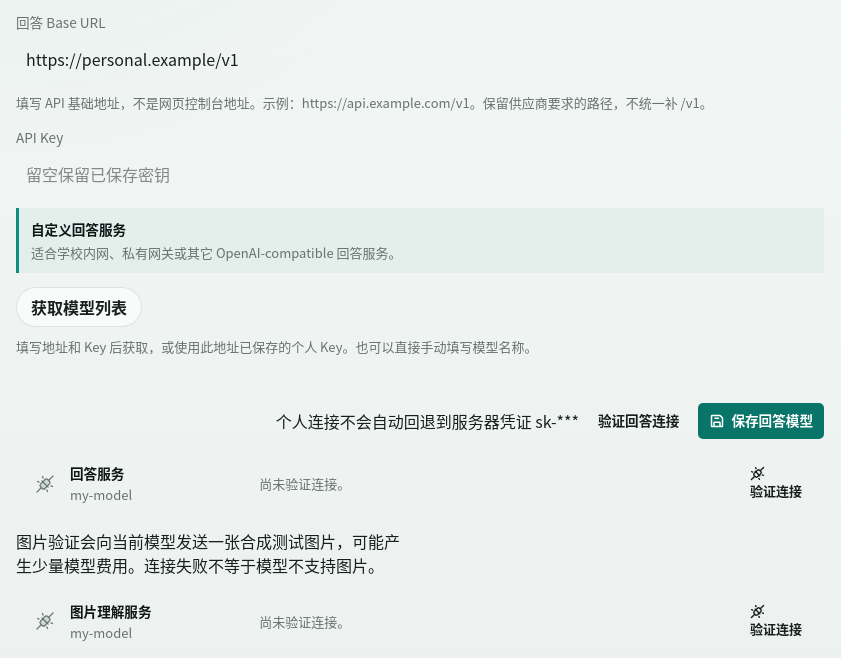
Scenario: personal main model capabilities › offers an explicit synthetic-image probe without assuming image support
The image size is (841, 658).
(page scrolled)
Check: the text "图片验证会向当前模型发送一张合成测试图片，可能产生少量模型费用。连接失败不等于模型不支持图片。" is shown, box [16, 528, 413, 576]
Click the button with aria-label "验证图片理解服务连接" at [776, 621], box [742, 604, 810, 639]
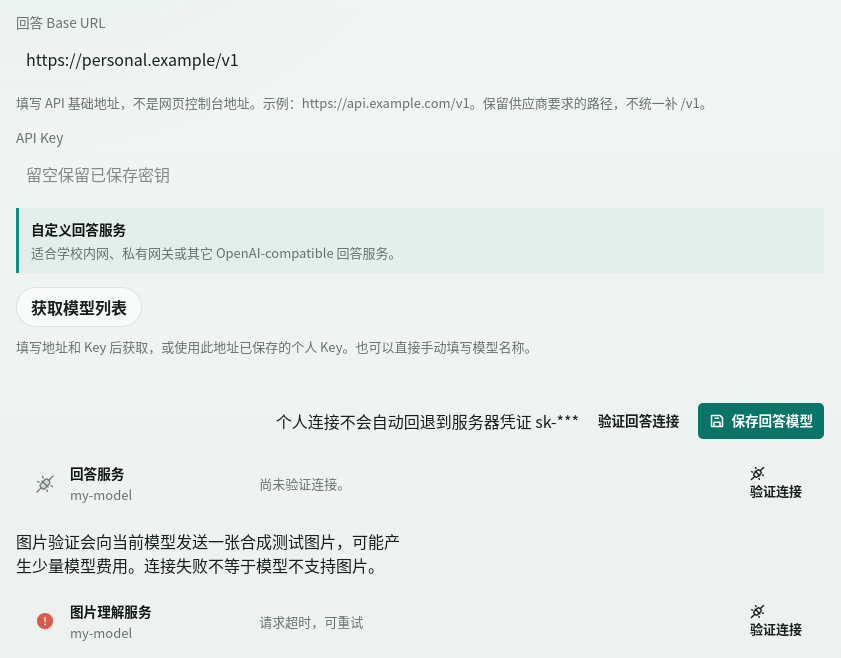
Check: the text "请求超时，可重试" is shown, box [259, 612, 363, 631]
